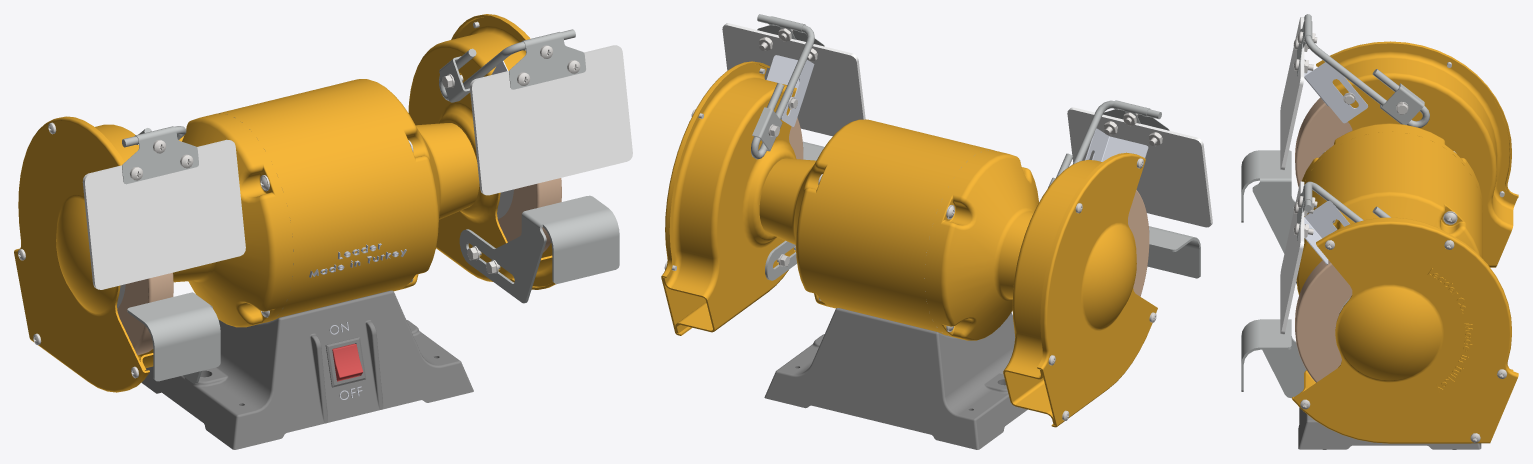
The picture shows the model from 3 angles, left to right: view 1: azimuth 30°, elevation 25°; view 2: azimuth 150°, elevation 25°; view 3: azimuth 270°, elevation 25°; orthographic projection. The views are drawn at different scales.
Parts seen in each view (by area): view 1: Оболочка (×19); view 2: Оболочка (×20); view 3: Оболочка (×21).
Part boxes in pixels (x1,y1,x2,y2): Оболочка (×19): (14, 14, 632, 449); Оболочка (×20): (661, 14, 1212, 449); Оболочка (×21): (1241, 14, 1518, 449).
Size of the model in its own units: 428 by 257 by 220.
